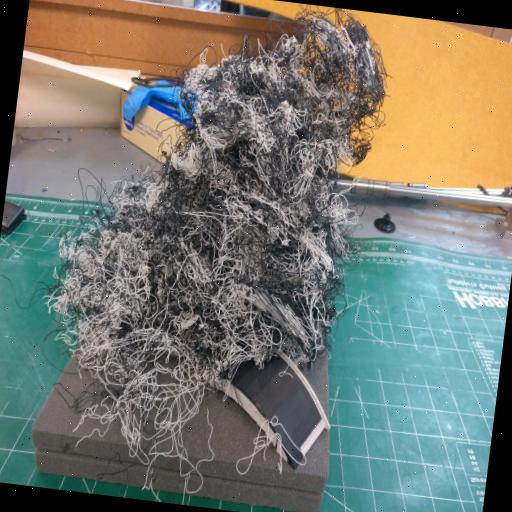spaghetti: (15, 0, 401, 496)
